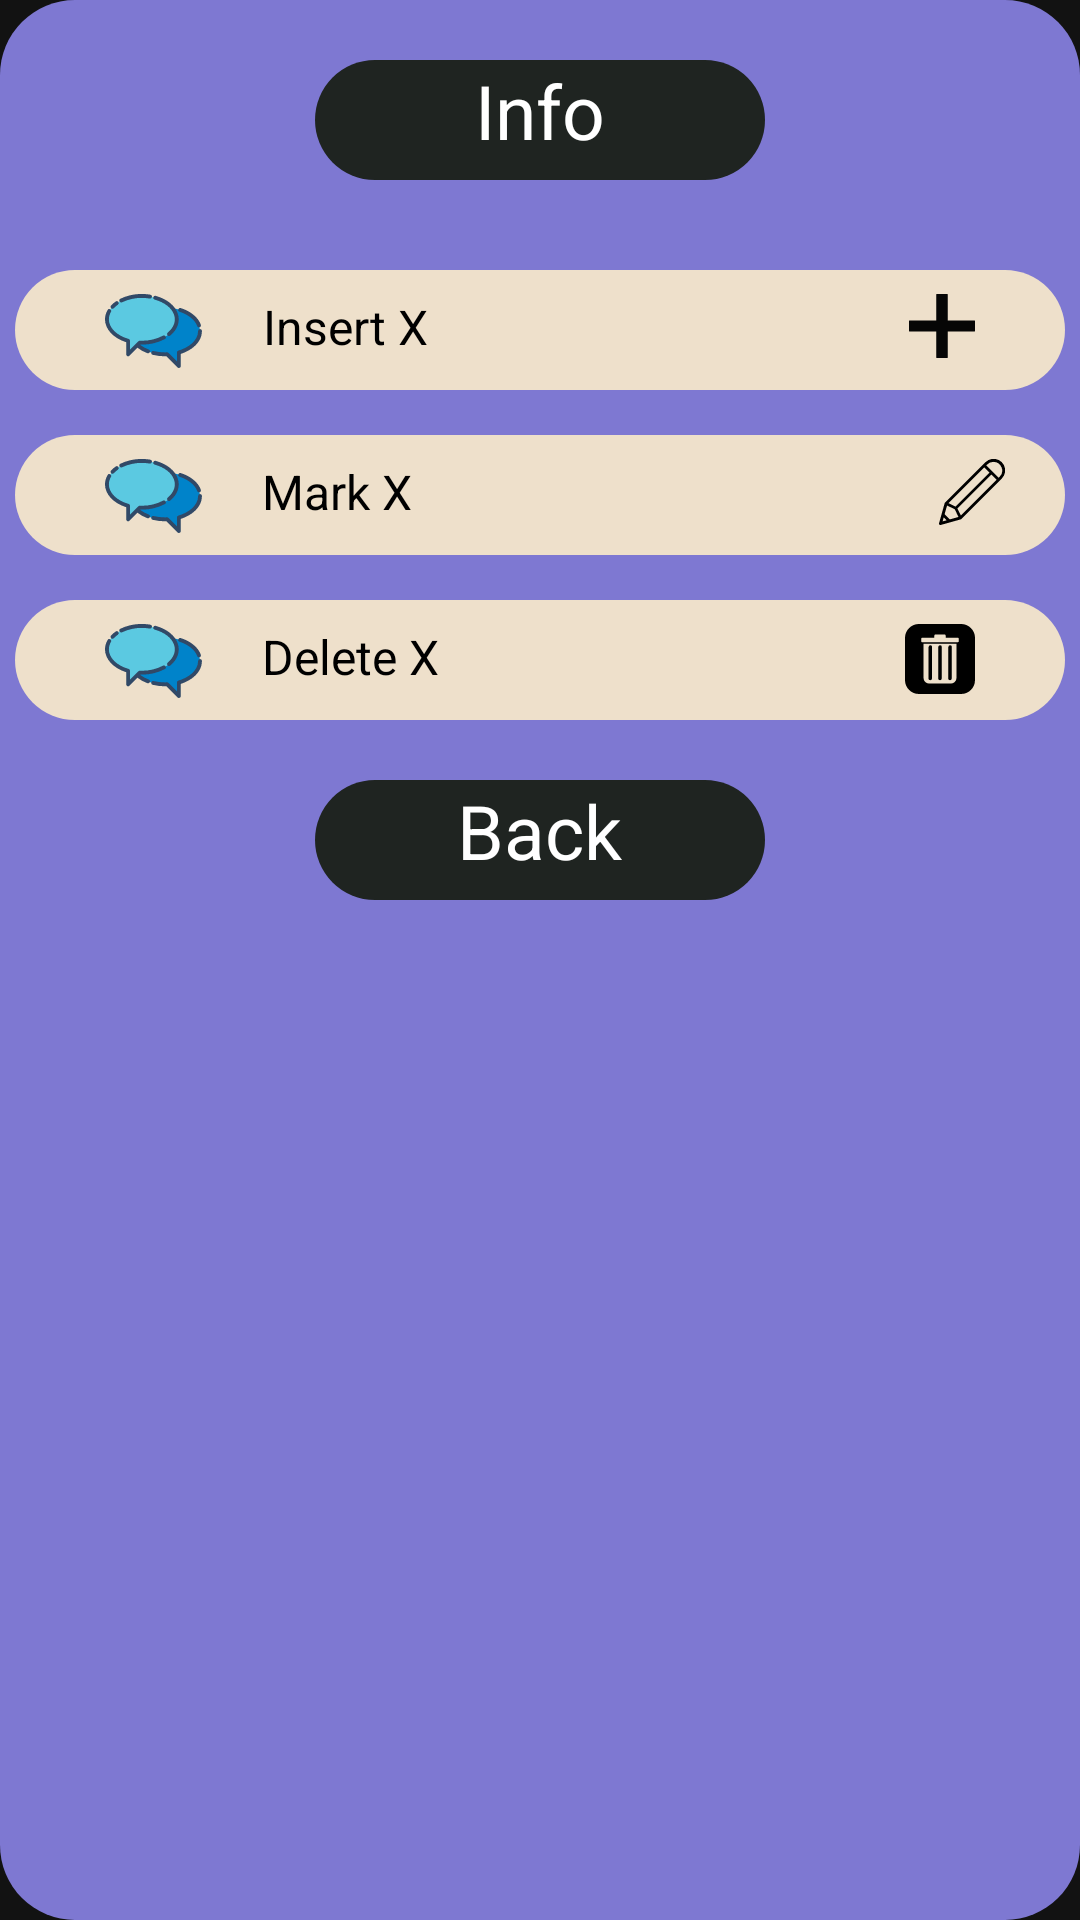

Where to tap for icons on this 1080px x 1920px app screen, as (x,y):
basura: (940,659)
pencil: (972,492)
speak: (153,331), (153,496), (153,661)
